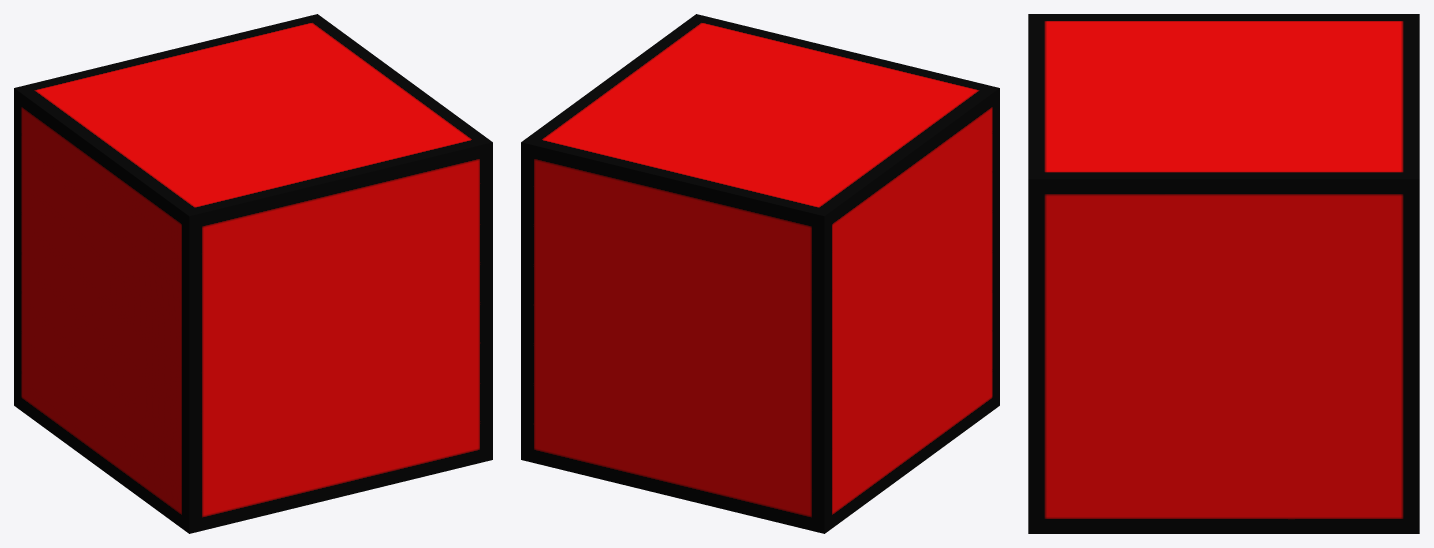
Rendered from ShapeKeys.fbx.
3 renders of one model, left to right at view 1: azimuth 30°, elevation 25°; view 2: azimuth 150°, elevation 25°; view 3: azimuth 270°, elevation 25°, orthographic. The views are drawn at different scales.
Visible parts, largest first — view 1: Cube.001; view 2: Cube.001; view 3: Cube.001.
Part boxes in pixels (x1,y1,x2,y2): Cube.001: (14,14,492,533); Cube.001: (521,14,999,533); Cube.001: (1028,14,1419,533).
Size of the model in its own units: 200 by 200 by 200.
